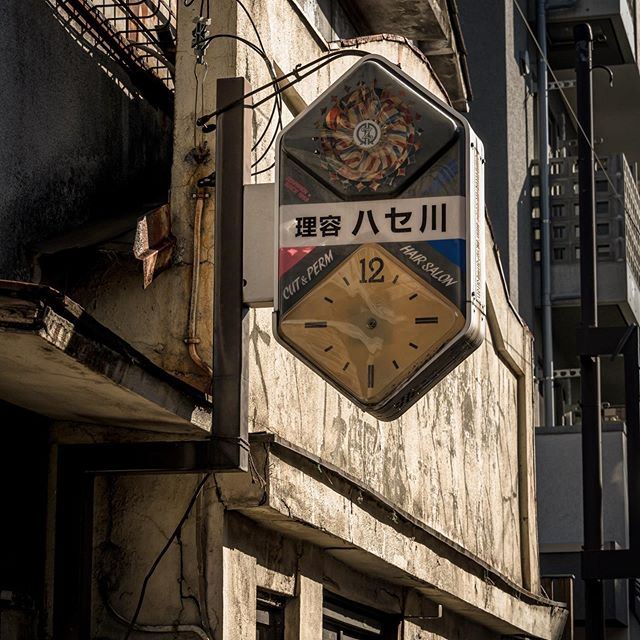building: (1, 11, 522, 640)
sign: (244, 55, 484, 409)
